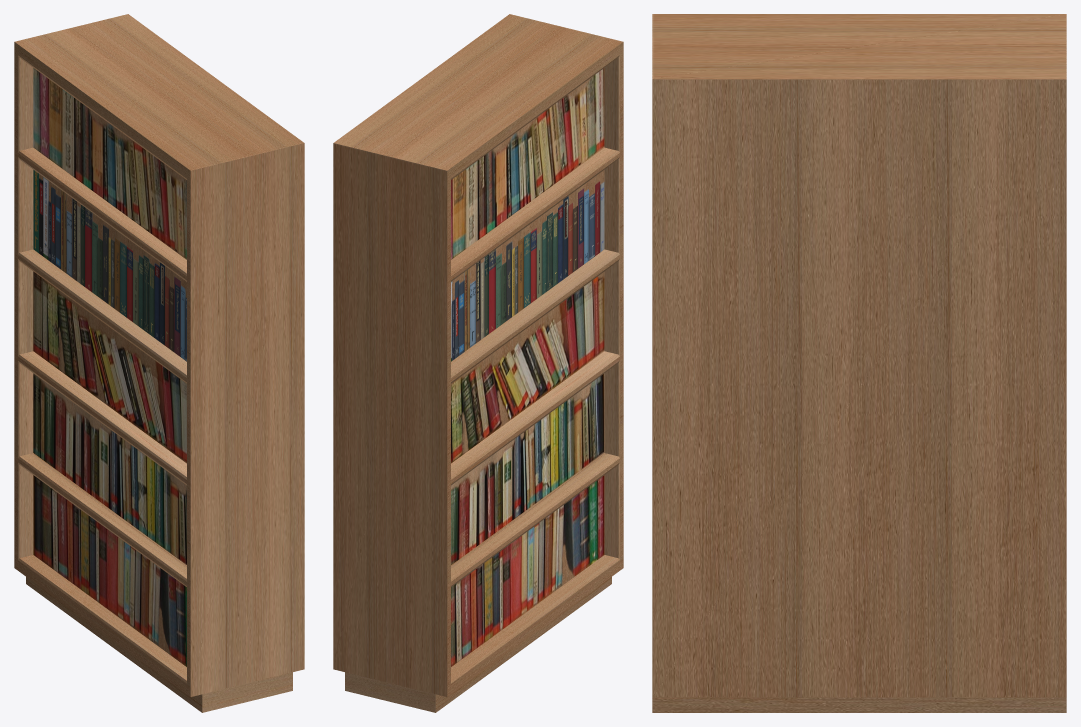
File: Shelf5x1MidBooked.fbx
3 renders of one model, left to right at view 1: azimuth 30°, elevation 25°; view 2: azimuth 150°, elevation 25°; view 3: azimuth 270°, elevation 25°, orthographic. The views are drawn at different scales.
Parts seen in each view (by area): view 1: Shelf5x1Mid; view 2: Shelf5x1Mid; view 3: Shelf5x1Mid.
Part boxes in pixels (left/top/right/bottom): Shelf5x1Mid: left=14, top=14, right=304, bottom=712; Shelf5x1Mid: left=333, top=14, right=623, bottom=712; Shelf5x1Mid: left=652, top=14, right=1066, bottom=712.
Bounding box in the file's own units: 127 × 580 × 340.
